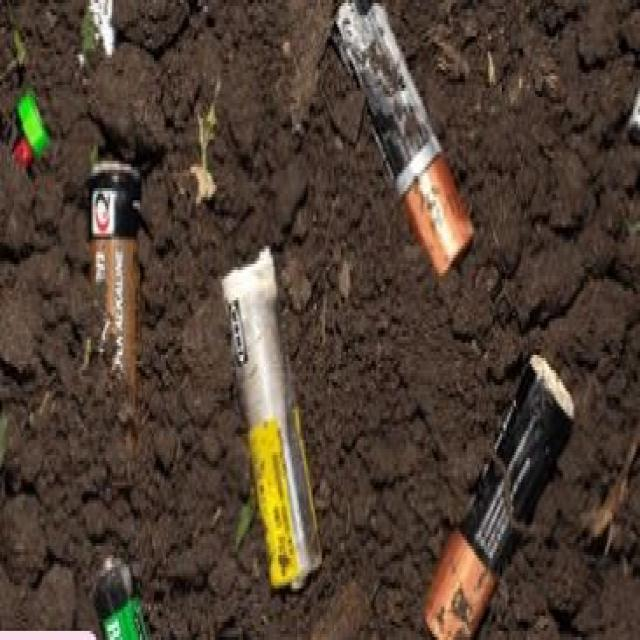electronic: (215, 232, 383, 619)
